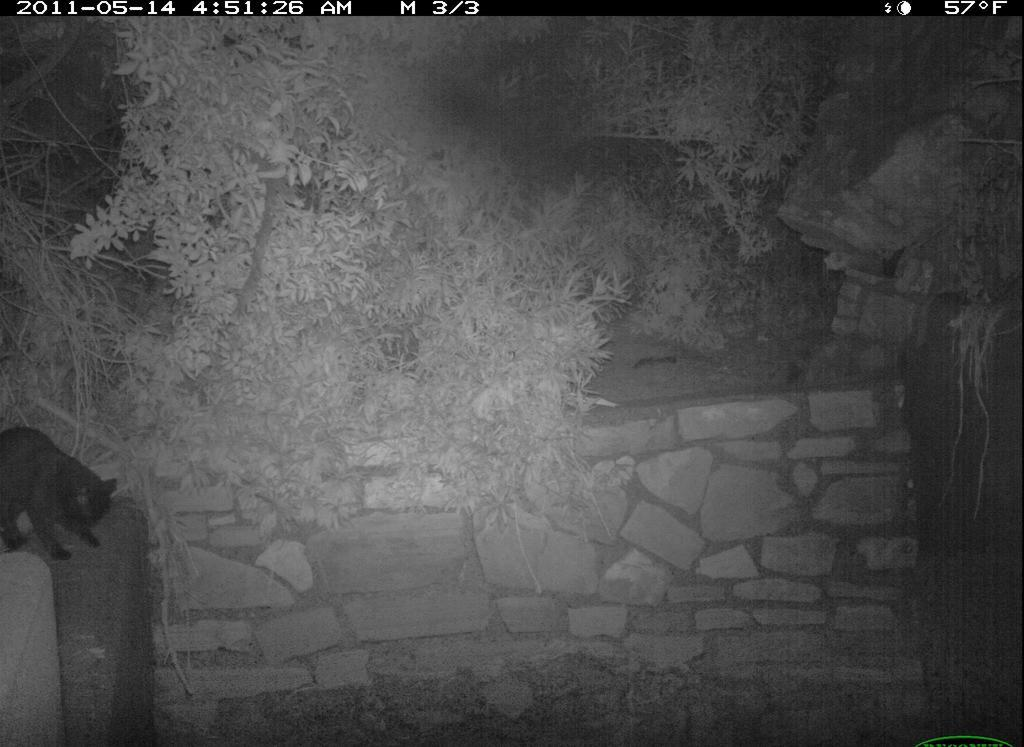cat: (3, 417, 131, 569)
